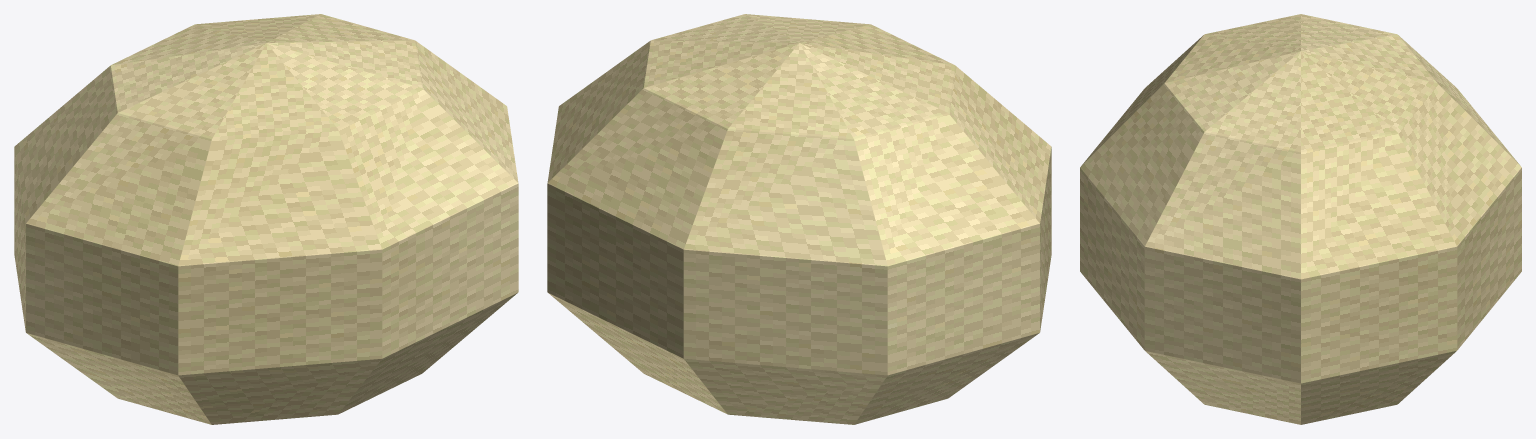
The model's file is gordura.glb.
The picture shows the model from 3 angles, left to right: view 1: azimuth 30°, elevation 25°; view 2: azimuth 150°, elevation 25°; view 3: azimuth 270°, elevation 25°; orthographic projection. The views are drawn at different scales.
Parts seen in each view (by area): view 1: gordura; view 2: gordura; view 3: gordura.
Boxes of the visible parts, x1,y1,x2,y2 form: gordura: [14, 14, 518, 424]; gordura: [547, 14, 1051, 424]; gordura: [1080, 14, 1521, 424].
Size of the model in its own units: 0.4109 by 0.288 by 0.3424.
1 material, 1 textured.
